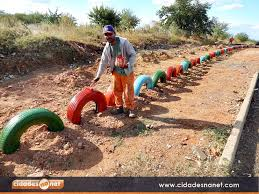tire: (1, 109, 65, 164), (66, 88, 107, 135), (132, 75, 154, 103), (150, 70, 167, 92)
